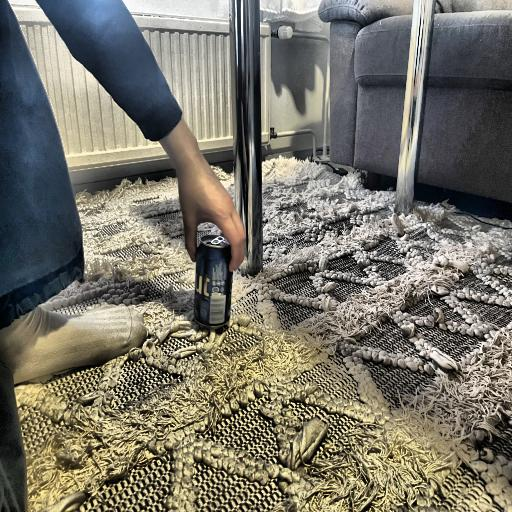koti: (187, 231, 235, 331)
